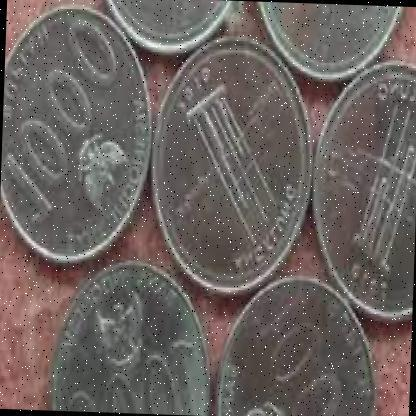coin_1000_e2010: (149, 32, 315, 286), (0, 0, 152, 263), (45, 260, 213, 416), (317, 63, 416, 327), (214, 277, 378, 416)
